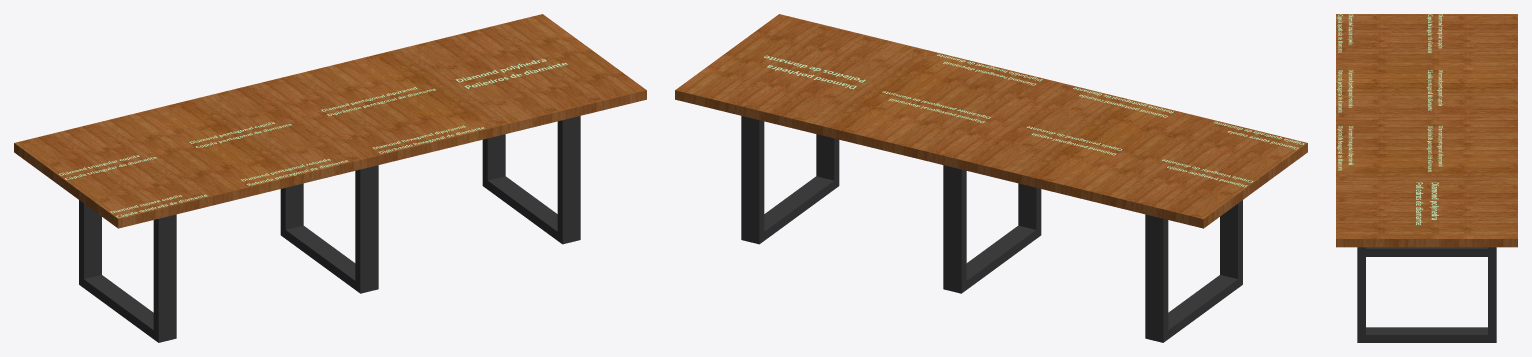
The model's file is diamonds1.glb.
3 views of the same model, side by side, from view 1: azimuth 30°, elevation 25°; view 2: azimuth 150°, elevation 25°; view 3: azimuth 270°, elevation 25° (orthographic). The views are drawn at different scales.
Visible parts, largest first — view 1: object 1, Composant#1 (×3), Diamond polyhedr#1; view 2: object 1, Composant#1 (×3), Diamond polyhedr#1; view 3: object 1, Composant#1 (×2), Diamond polyhedr#1, Diamond pentagon#2, Diamond hexagona, Diamond pentagon#1, Diamond pentagon, Diamond triangul, Diamond square c.
Boxes of the visible parts, bbox=[...] form: object 1: bbox=[14, 14, 646, 228]; Composant#1 (×3): bbox=[79, 116, 580, 342]; Diamond polyhedr#1: bbox=[455, 59, 567, 88]; object 1: bbox=[675, 14, 1307, 228]; Composant#1 (×3): bbox=[741, 116, 1242, 342]; Diamond polyhedr#1: bbox=[764, 55, 865, 89]; object 1: bbox=[1336, 14, 1517, 247]; Composant#1 (×2): bbox=[1357, 247, 1496, 342]; Diamond polyhedr#1: bbox=[1416, 182, 1438, 224]; Diamond pentagon#2: bbox=[1427, 126, 1443, 171]; Diamond hexagona: bbox=[1337, 126, 1353, 170]; Diamond pentagon#1: bbox=[1337, 70, 1353, 112]; Diamond pentagon: bbox=[1426, 70, 1443, 110]; Diamond triangul: bbox=[1426, 14, 1443, 52]; Diamond square c: bbox=[1337, 14, 1353, 52].
Bounding box in the file's own units: 2.93 × 0.7711 × 1.
Materials: 3 (1 with a texture image).
